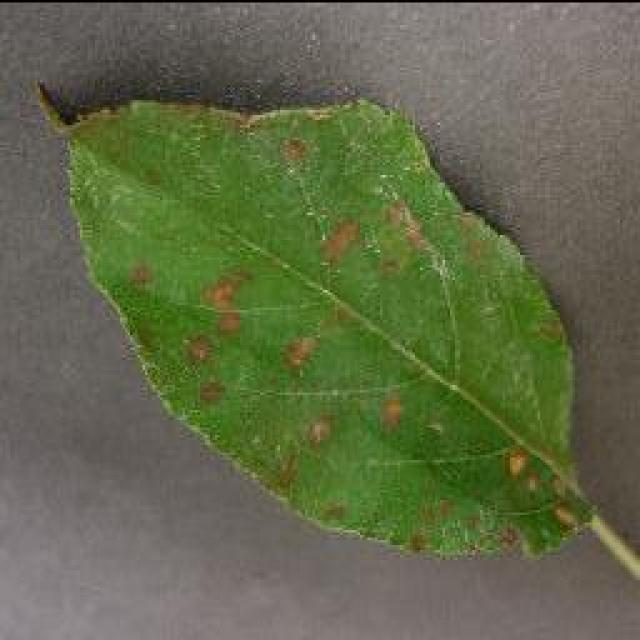apple healthy: (35, 75, 595, 560)
